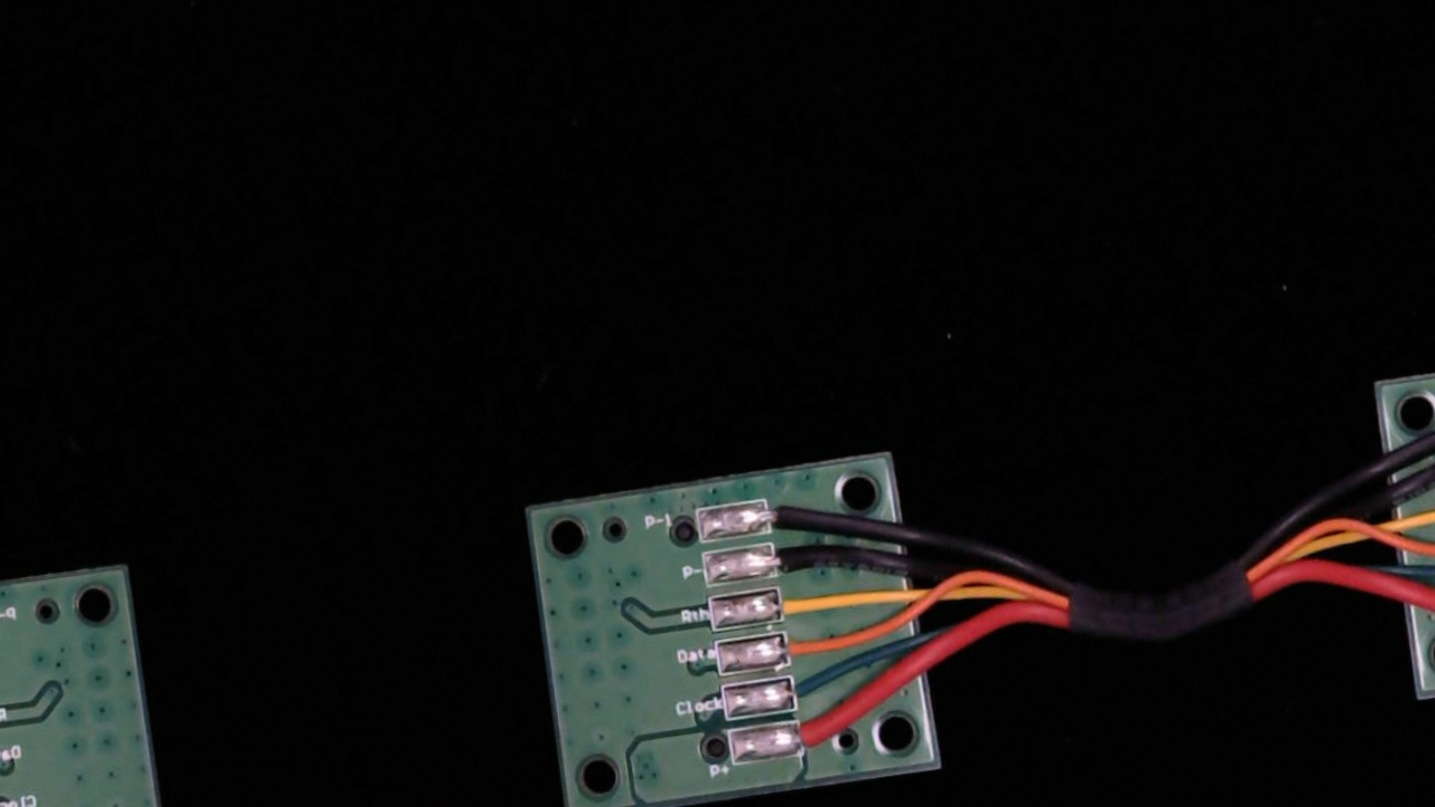Black: (754, 534, 835, 584)
Black1: (747, 489, 821, 534)
Green: (769, 667, 854, 717)
Orange: (764, 622, 851, 670)
Red: (779, 709, 864, 759)
Yellow: (758, 580, 833, 627)
